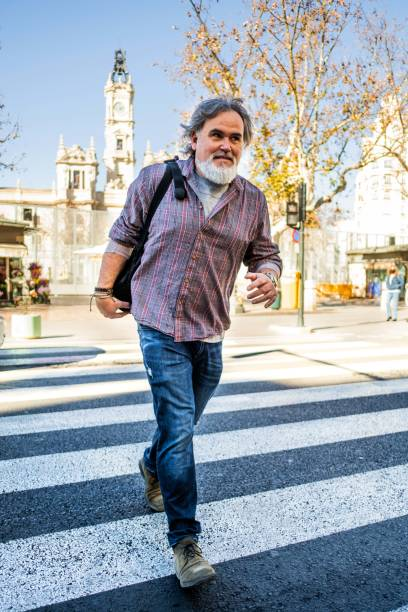yaya: (92, 59, 276, 594)
